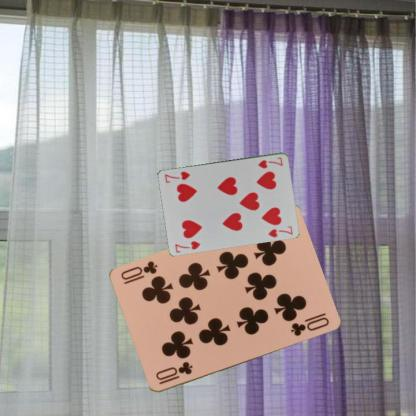10c: (153, 359, 194, 386)
7h: (172, 238, 202, 254), (255, 154, 284, 170)
